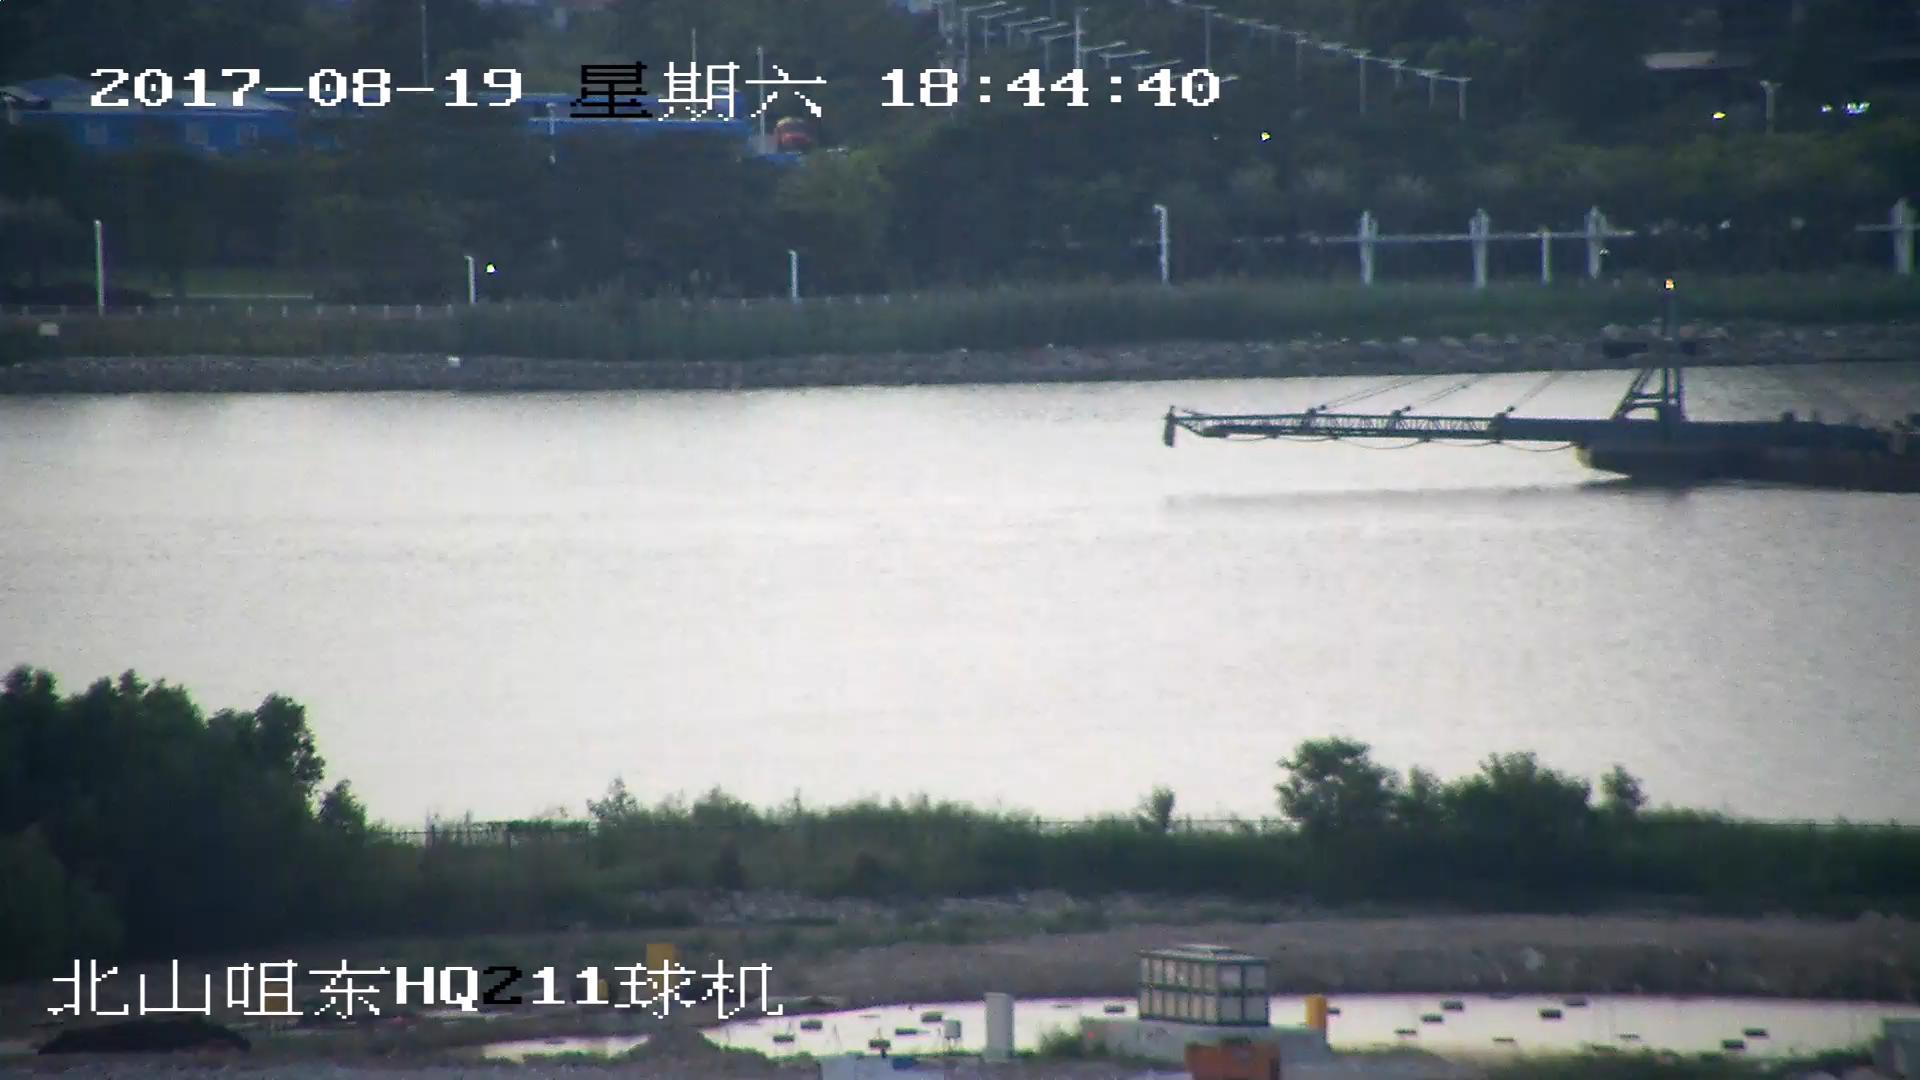Ship: (1164, 285, 1920, 489)
